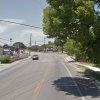Tree: (39, 2, 100, 55)
